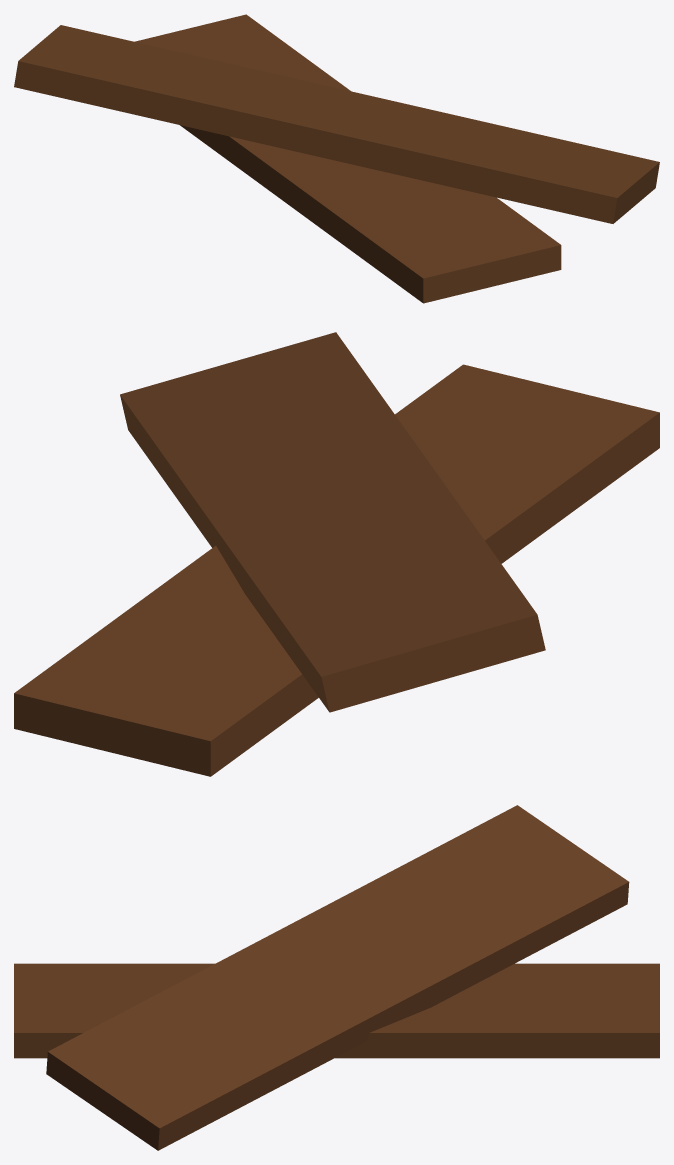
The model's file is Wood.fbx.
The picture shows the model from 3 angles, top to bottom: view 1: azimuth 30°, elevation 25°; view 2: azimuth 150°, elevation 25°; view 3: azimuth 270°, elevation 25°; orthographic projection. The views are drawn at different scales.
Parts seen in each view (by area): view 1: 平面; view 2: 平面; view 3: 平面.
Boxes of the visible parts, bbox=[...] form: 平面: bbox=[14, 14, 659, 303]; 平面: bbox=[14, 332, 659, 776]; 平面: bbox=[14, 805, 659, 1150].
Bounding box in the file's own units: 2.02 × 0.4565 × 2.33.
